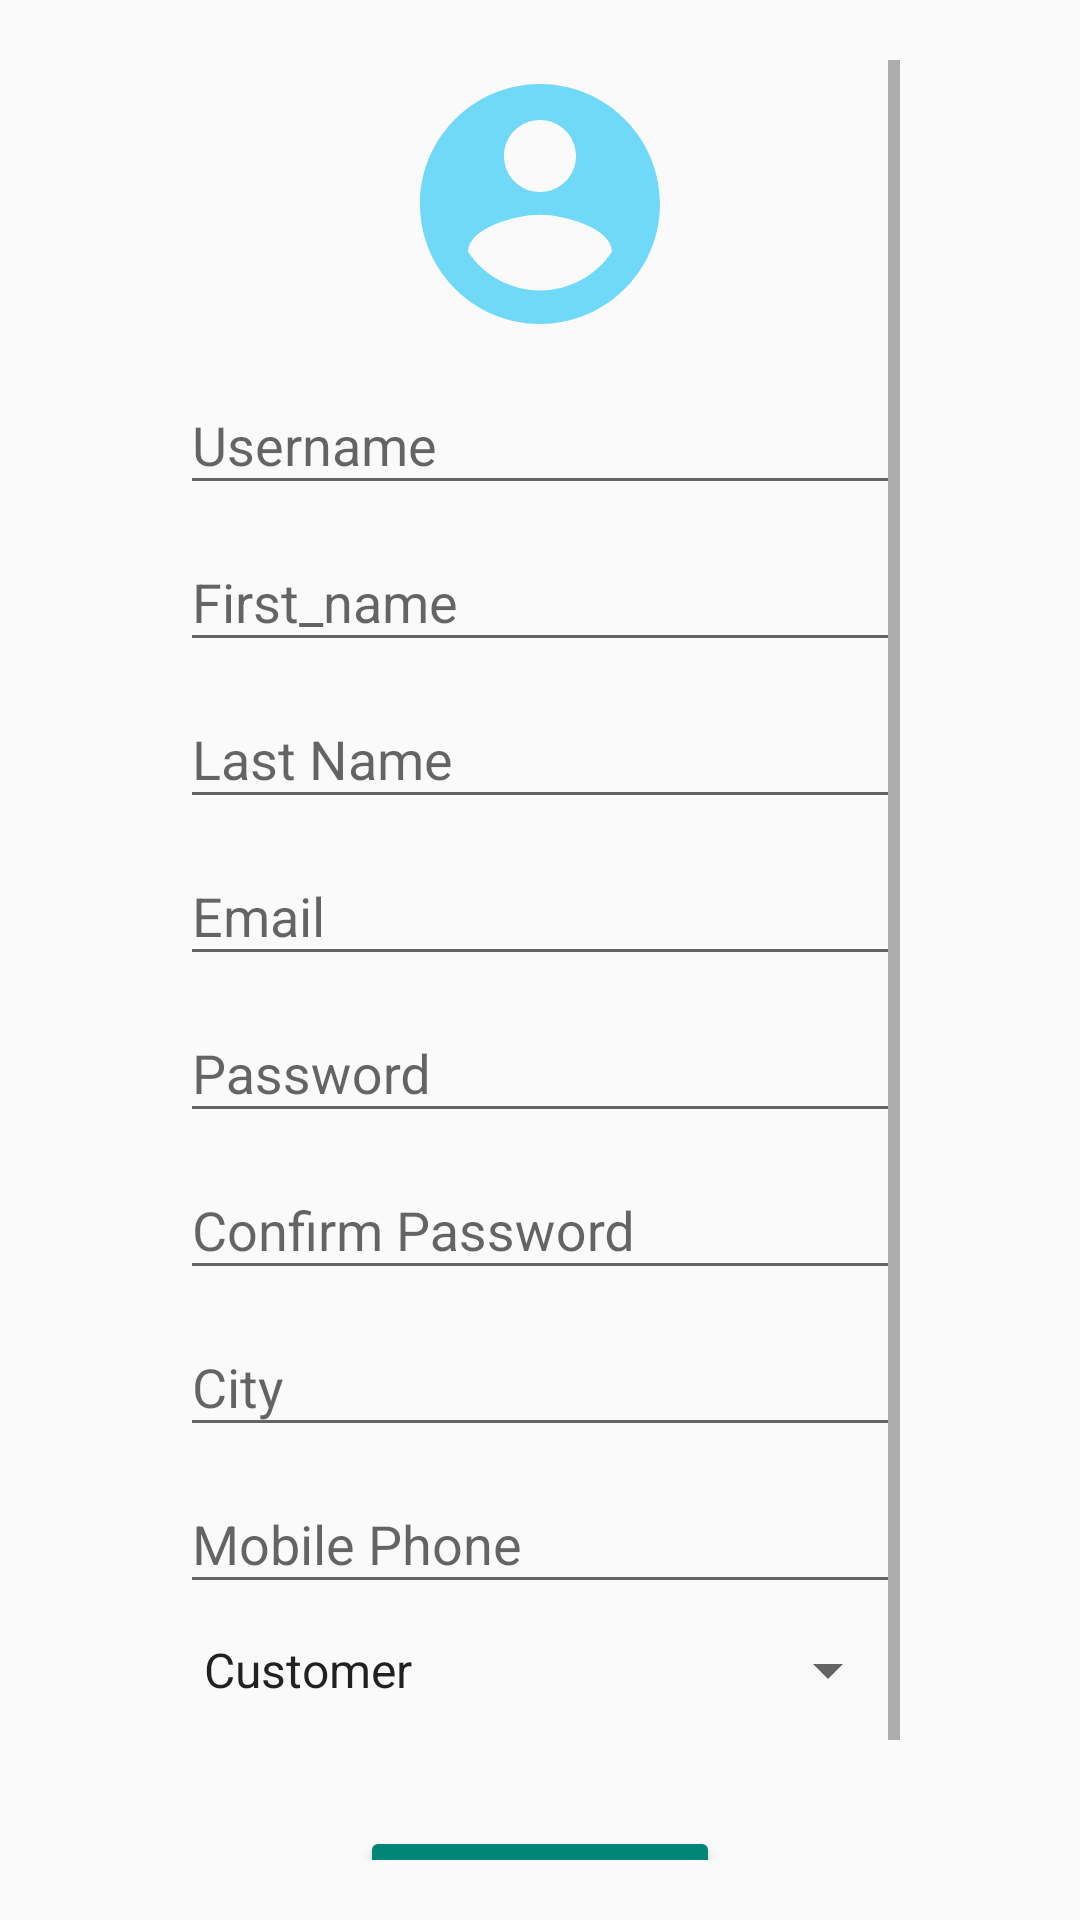

Icon click points for this 1080 × 1920 phone screenshot, format [x,y]:
account circle: [540,204]
